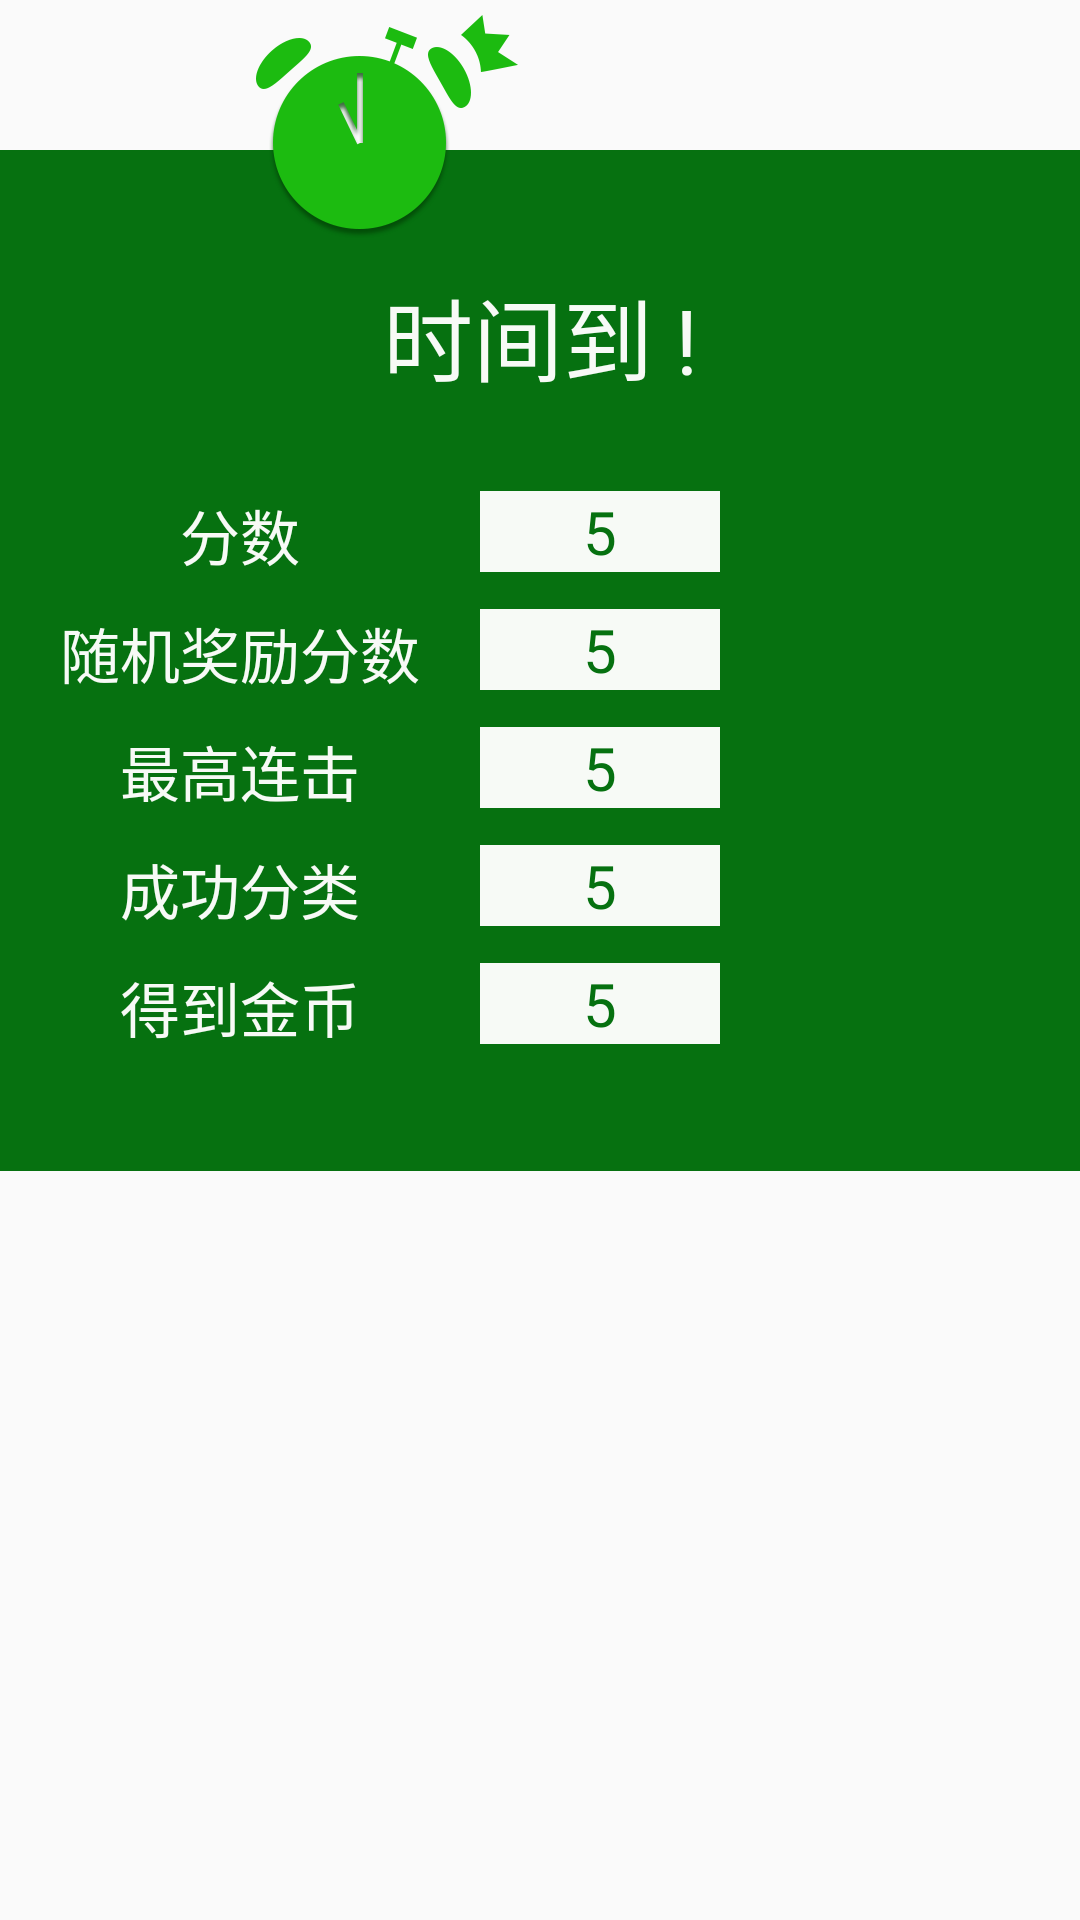

Named icons in this screenshot (1080px x 1920px) and their centers, [x,y]:
alarm: [386,116]
